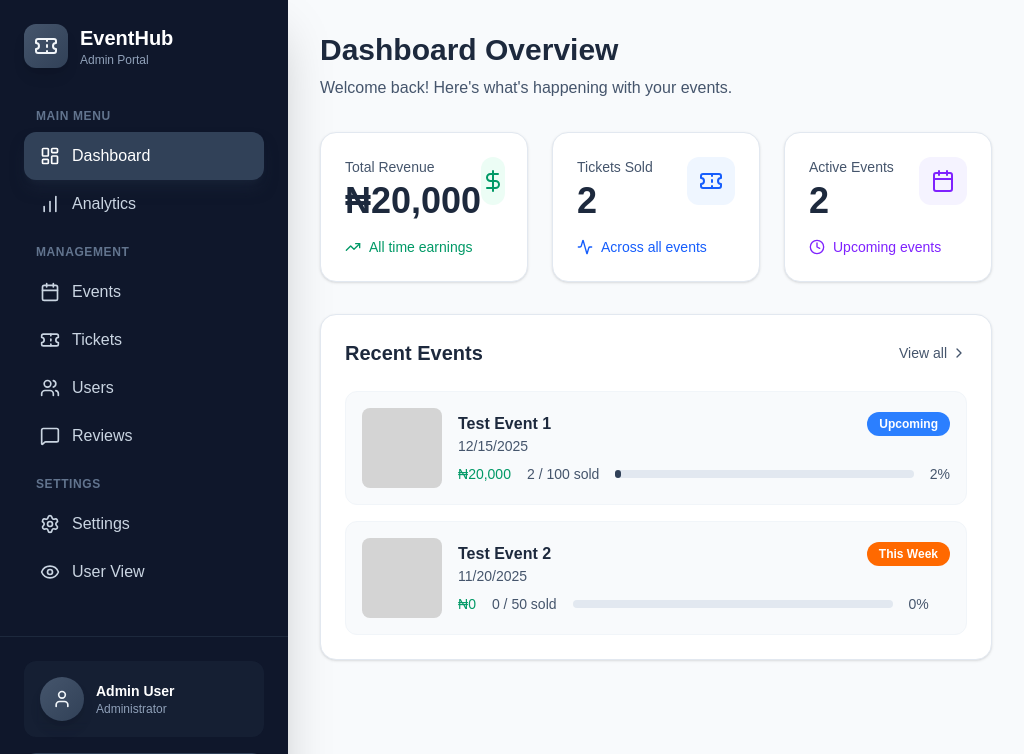
Test: AdminPage › Users View › should display user management placeholder
Navigate to users view
Click the button "Users". click: click(144, 388)
box: [24,364,264,412]
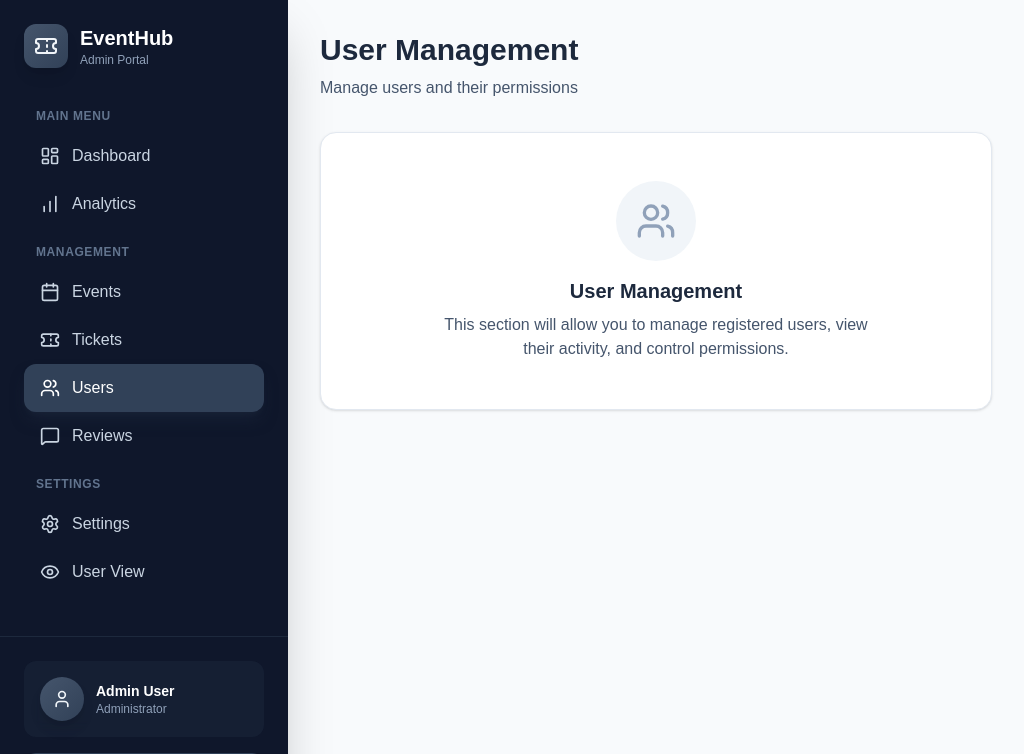
Check: the 1st heading "User Management" is shown, box [320,33,578,66]
Check: the text "This section will allow you to manage registered users" is shown, box [444,316,868,357]
